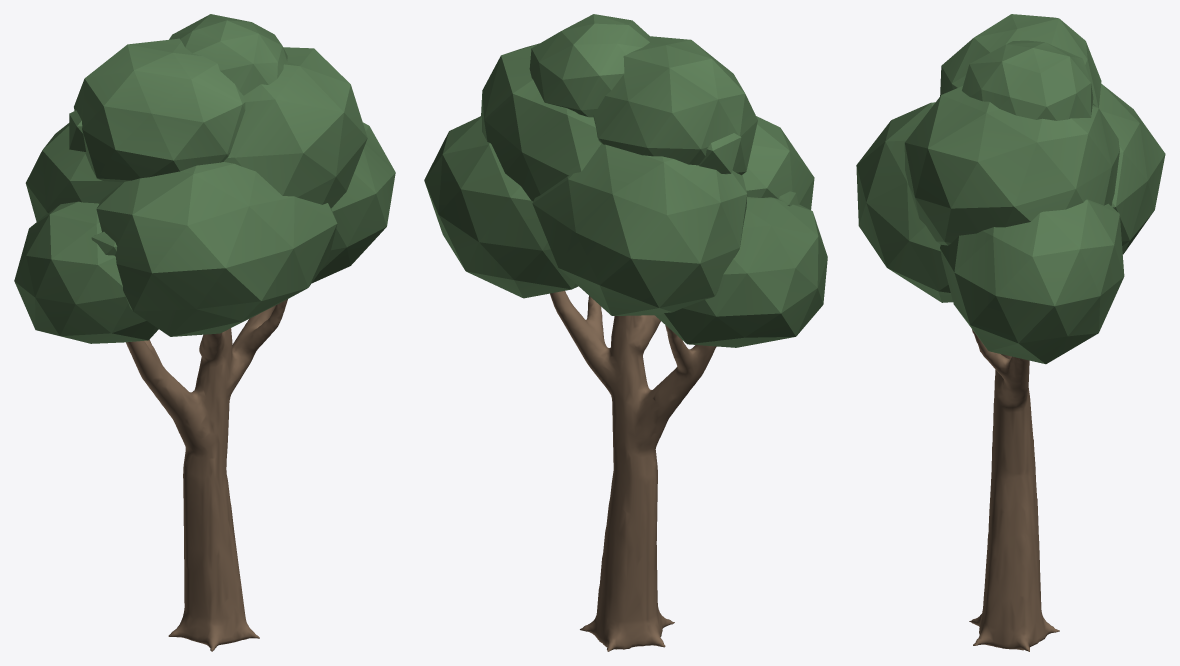
File: community-tree.glb
The picture shows the model from 3 angles, left to right: view 1: azimuth 30°, elevation 25°; view 2: azimuth 150°, elevation 25°; view 3: azimuth 270°, elevation 25°; orthographic projection. The views are drawn at different scales.
Visible parts, largest first — view 1: layered-canopy, organic-bark; view 2: layered-canopy, organic-bark; view 3: layered-canopy, organic-bark.
Boxes of the visible parts, box(x1,y1,x2,y2) form: layered-canopy: box(14, 14, 395, 343); organic-bark: box(126, 299, 287, 651); layered-canopy: box(424, 14, 827, 347); organic-bark: box(550, 291, 716, 651); layered-canopy: box(856, 14, 1165, 364); organic-bark: box(969, 329, 1059, 651).
Size of the model in its own units: 2.83 by 4.51 by 2.1.
